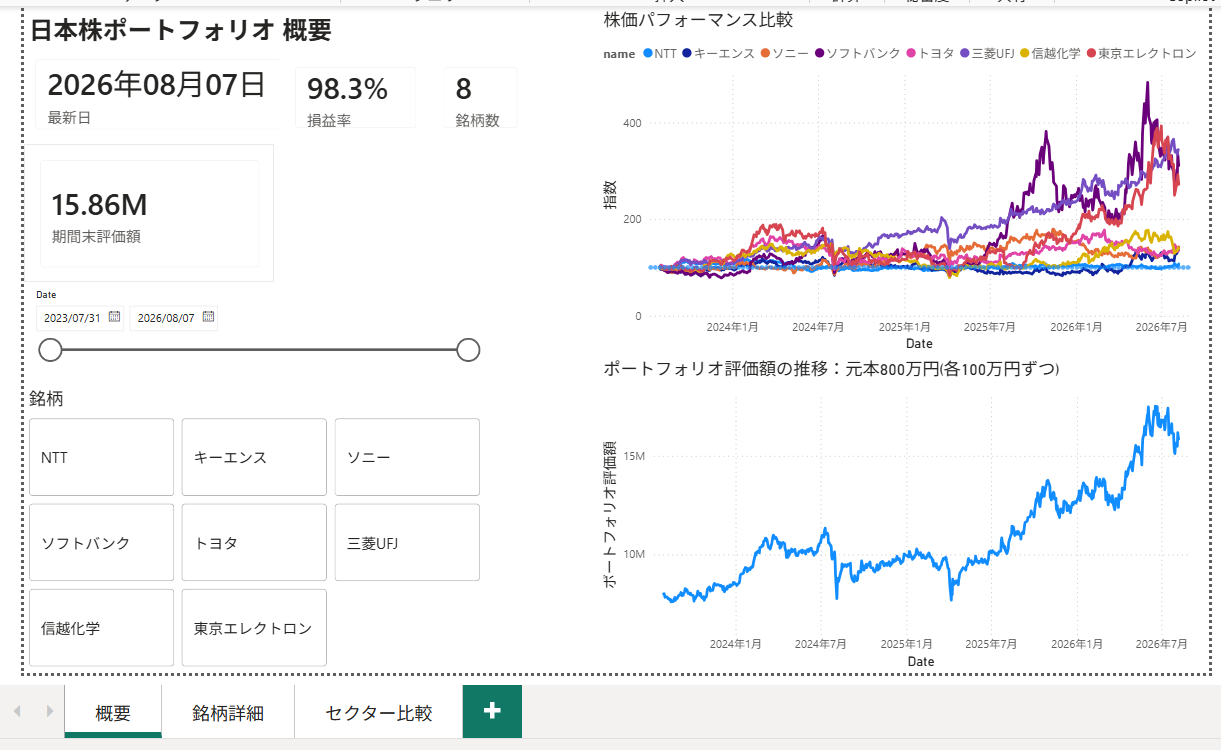

Layout of this report page (visuals, bound fields, positions):
{"tool":"powerbi","page":{"name":"概要","canvas":[1280,720],"ordinal":0},"visuals":[{"type":"cardVisual","fields":{"Data":["prices.最新日"]},"box":[0,44.8,293.7,100.3],"z":0},{"type":"cardVisual","fields":{"Data":["prices.平均終値"]},"box":[275.8,48.4,165.7,100.3],"z":1000},{"type":"cardVisual","fields":{"Data":["prices.銘柄数"]},"box":[435.2,48.4,114.6,100],"z":2000},{"type":"lineChart","title":"株価パフォーマンス比較","fields":{"Category":["dim_date.Date"],"Series":["symbols.name"],"Y":["prices.指数"]},"box":[619.7,0,660,377.4],"z":3000},{"type":"textbox","box":[0,0,354,48.6],"z":4000},{"type":"advancedSlicerVisual","title":"銘柄","fields":{"Values":["symbols.name"]},"box":[0,409.3,499.8,311.1],"z":5000},{"type":"slicer","fields":{"Values":["dim_date.Date"]},"box":[0,299.1,500.7,106.7],"z":6000},{"type":"lineChart","title":"ポートフォリオ評価額の推移：元本800万円(各100万円ずつ)","fields":{"Category":["dim_date.Date"],"Y":["prices.ポートフォリオ評価額"]},"box":[619.7,377,660,343],"z":7000},{"type":"cardVisual","fields":{"Data":["prices.現在評価額"]},"box":[0,148.7,271,150],"z":8000}]}

Visuals, with their boxes on the page's 1280x720 design canvas (x1, y1, x2, y2). These are canvas units, not pixel positions in the 1221x750 screenshot, which may show the page scaled, cropped or inside an application window:
cardVisual - prices.最新日: [left=0, top=45, right=294, bottom=145]
cardVisual - prices.平均終値: [left=276, top=48, right=442, bottom=149]
cardVisual - prices.銘柄数: [left=435, top=48, right=550, bottom=148]
"株価パフォーマンス比較" lineChart: [left=620, top=0, right=1280, bottom=377]
textbox: [left=0, top=0, right=354, bottom=49]
"銘柄" advancedSlicerVisual: [left=0, top=409, right=500, bottom=720]
slicer - dim_date.Date: [left=0, top=299, right=501, bottom=406]
"ポートフォリオ評価額の推移：元本800万円(各100万円ずつ)" lineChart: [left=620, top=377, right=1280, bottom=720]
cardVisual - prices.現在評価額: [left=0, top=149, right=271, bottom=299]
